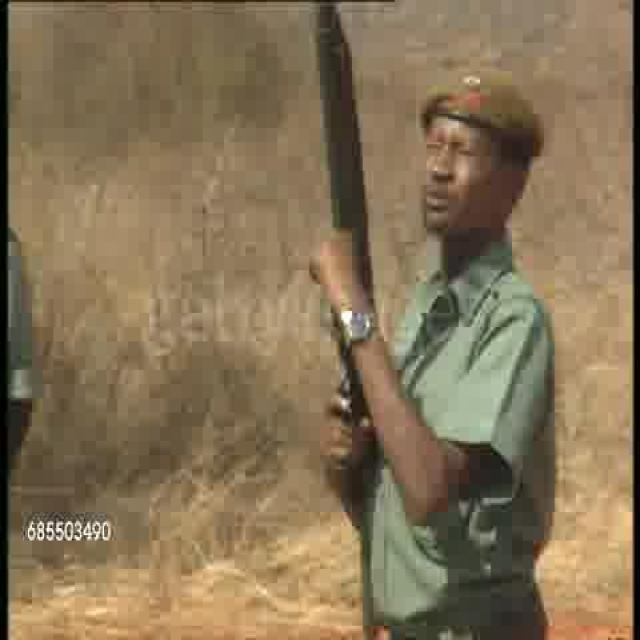poacher: (381, 39, 580, 605)
weapon: (306, 2, 386, 624)
